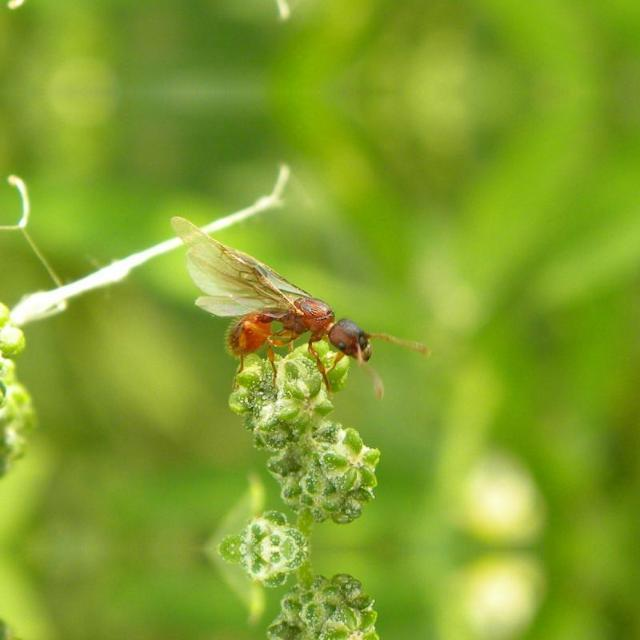Myrmica: (190, 250, 386, 384)
